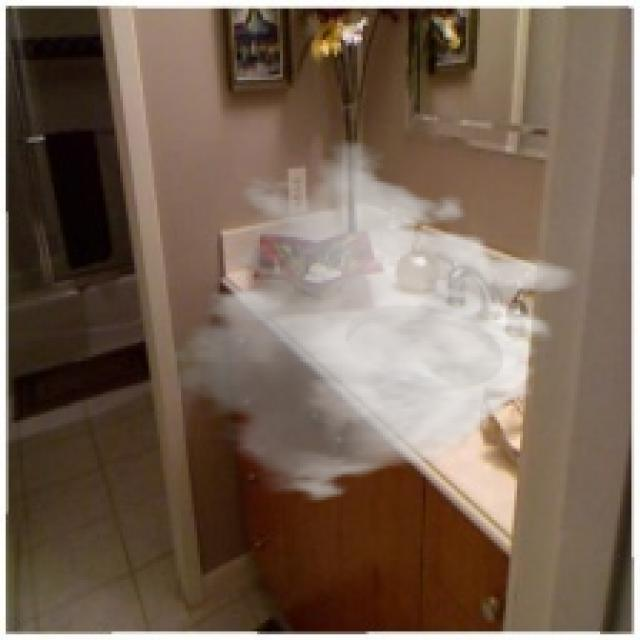Smoke: (160, 140, 580, 506)
